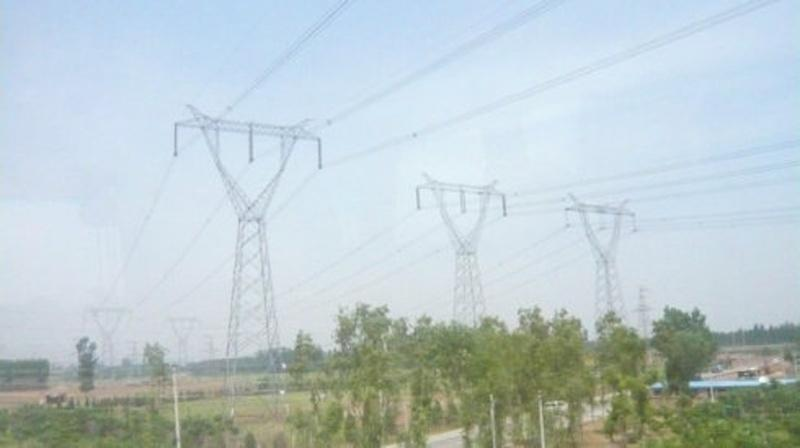power_tower: (172, 104, 326, 424), (412, 170, 509, 332), (562, 193, 641, 342), (80, 302, 127, 375), (166, 311, 198, 375)
